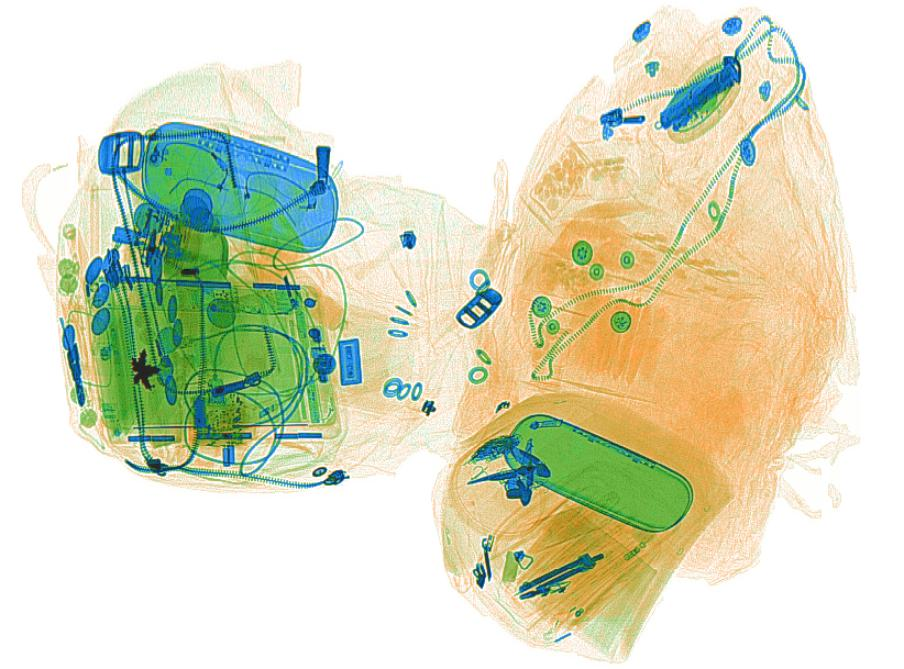knife: (652, 64, 736, 130)
